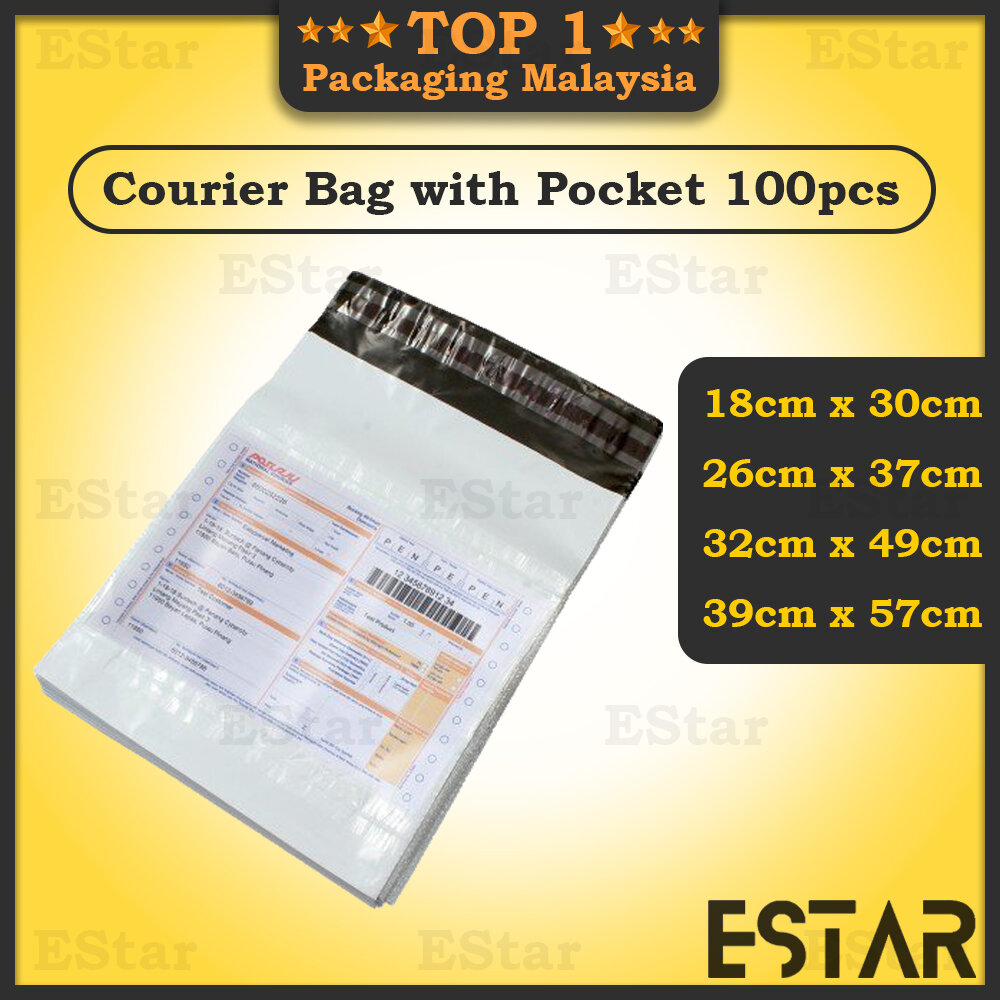Parcel: (35, 273, 662, 906)
